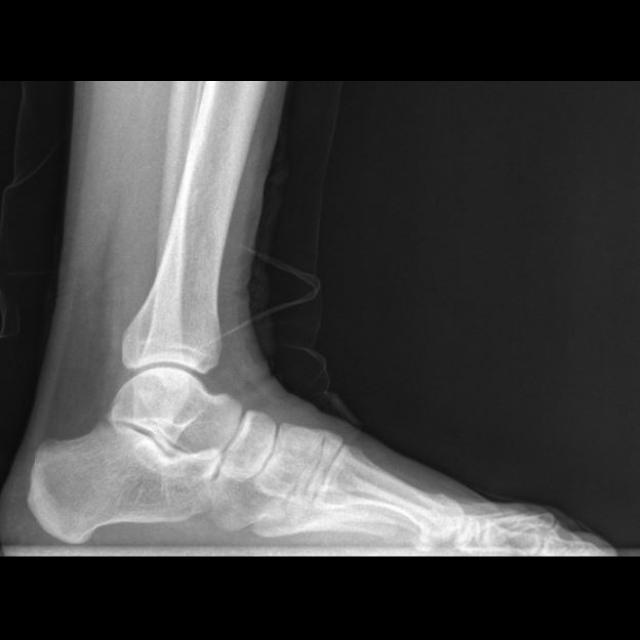a: (28, 417, 219, 545)
b: (220, 410, 276, 483)
c: (313, 441, 463, 539)
